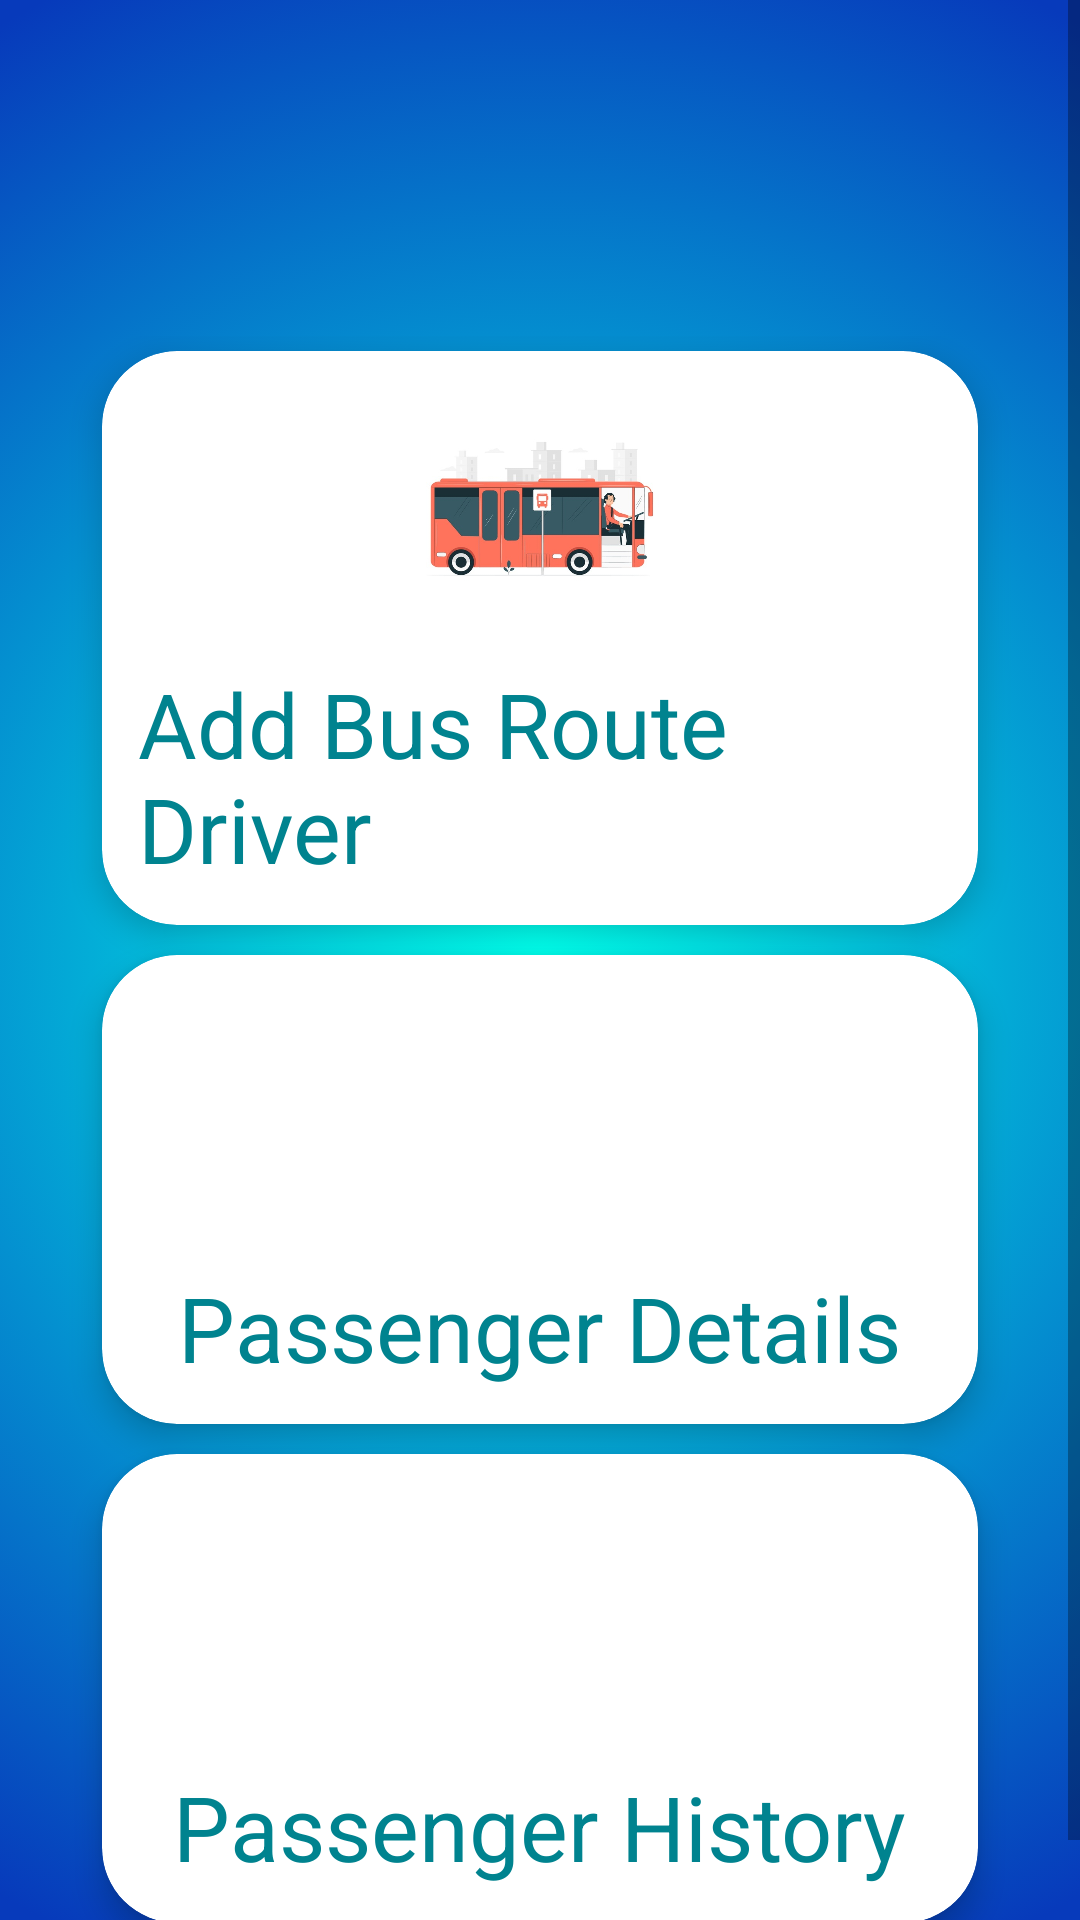

Locate icon controls on the screen. Image size 1080 x 1920, boxes as bbox(x1, y1, x2, y2).
busdriverroute: bbox(430, 442, 653, 576)
